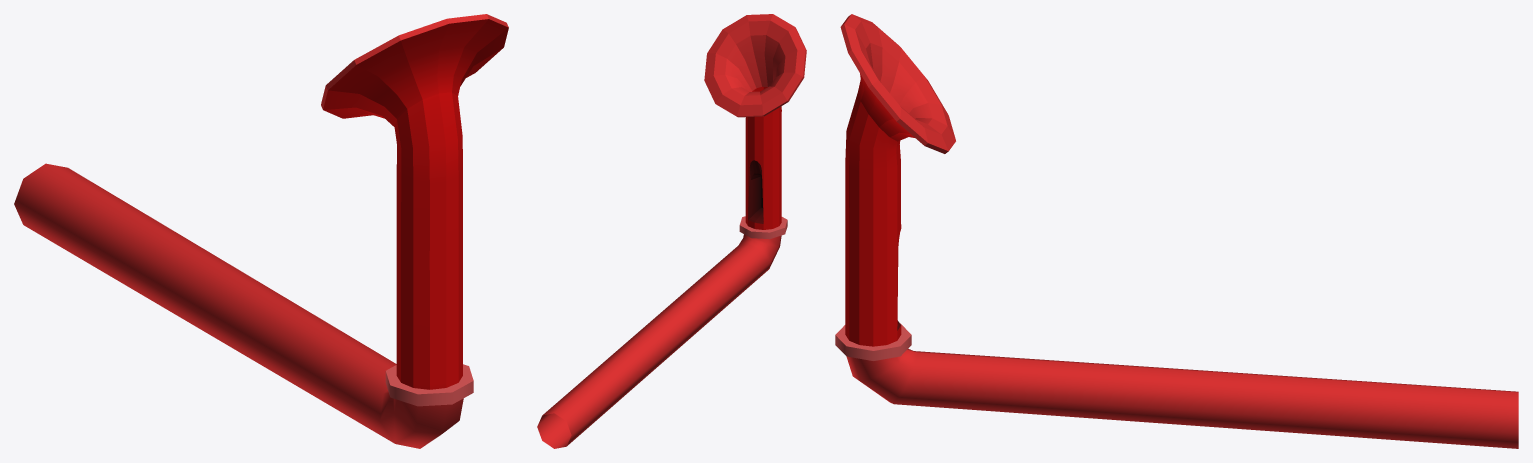
File: ENV_Xylophone_Pipe_01.fbx
The picture shows the model from 3 angles, left to right: view 1: azimuth 30°, elevation 25°; view 2: azimuth 150°, elevation 25°; view 3: azimuth 270°, elevation 25°; orthographic projection. The views are drawn at different scales.
Parts seen in each view (by area): view 1: ENV_Xylophone_Pipe_01; view 2: ENV_Xylophone_Pipe_01; view 3: ENV_Xylophone_Pipe_01.
Boxes of the visible parts, bbox=[...] form: ENV_Xylophone_Pipe_01: bbox=[14, 14, 508, 448]; ENV_Xylophone_Pipe_01: bbox=[537, 14, 806, 448]; ENV_Xylophone_Pipe_01: bbox=[835, 14, 1518, 448].
Size of the model in its own units: 2198 by 6014 by 8792.
